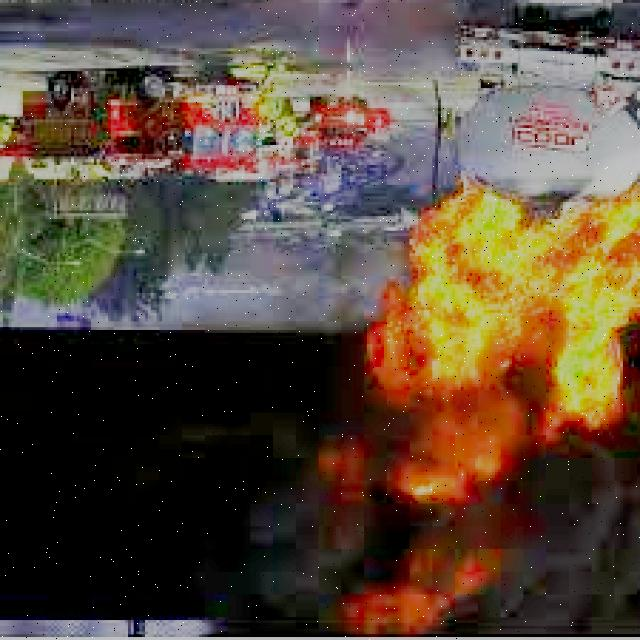api: (354, 186, 638, 502)
